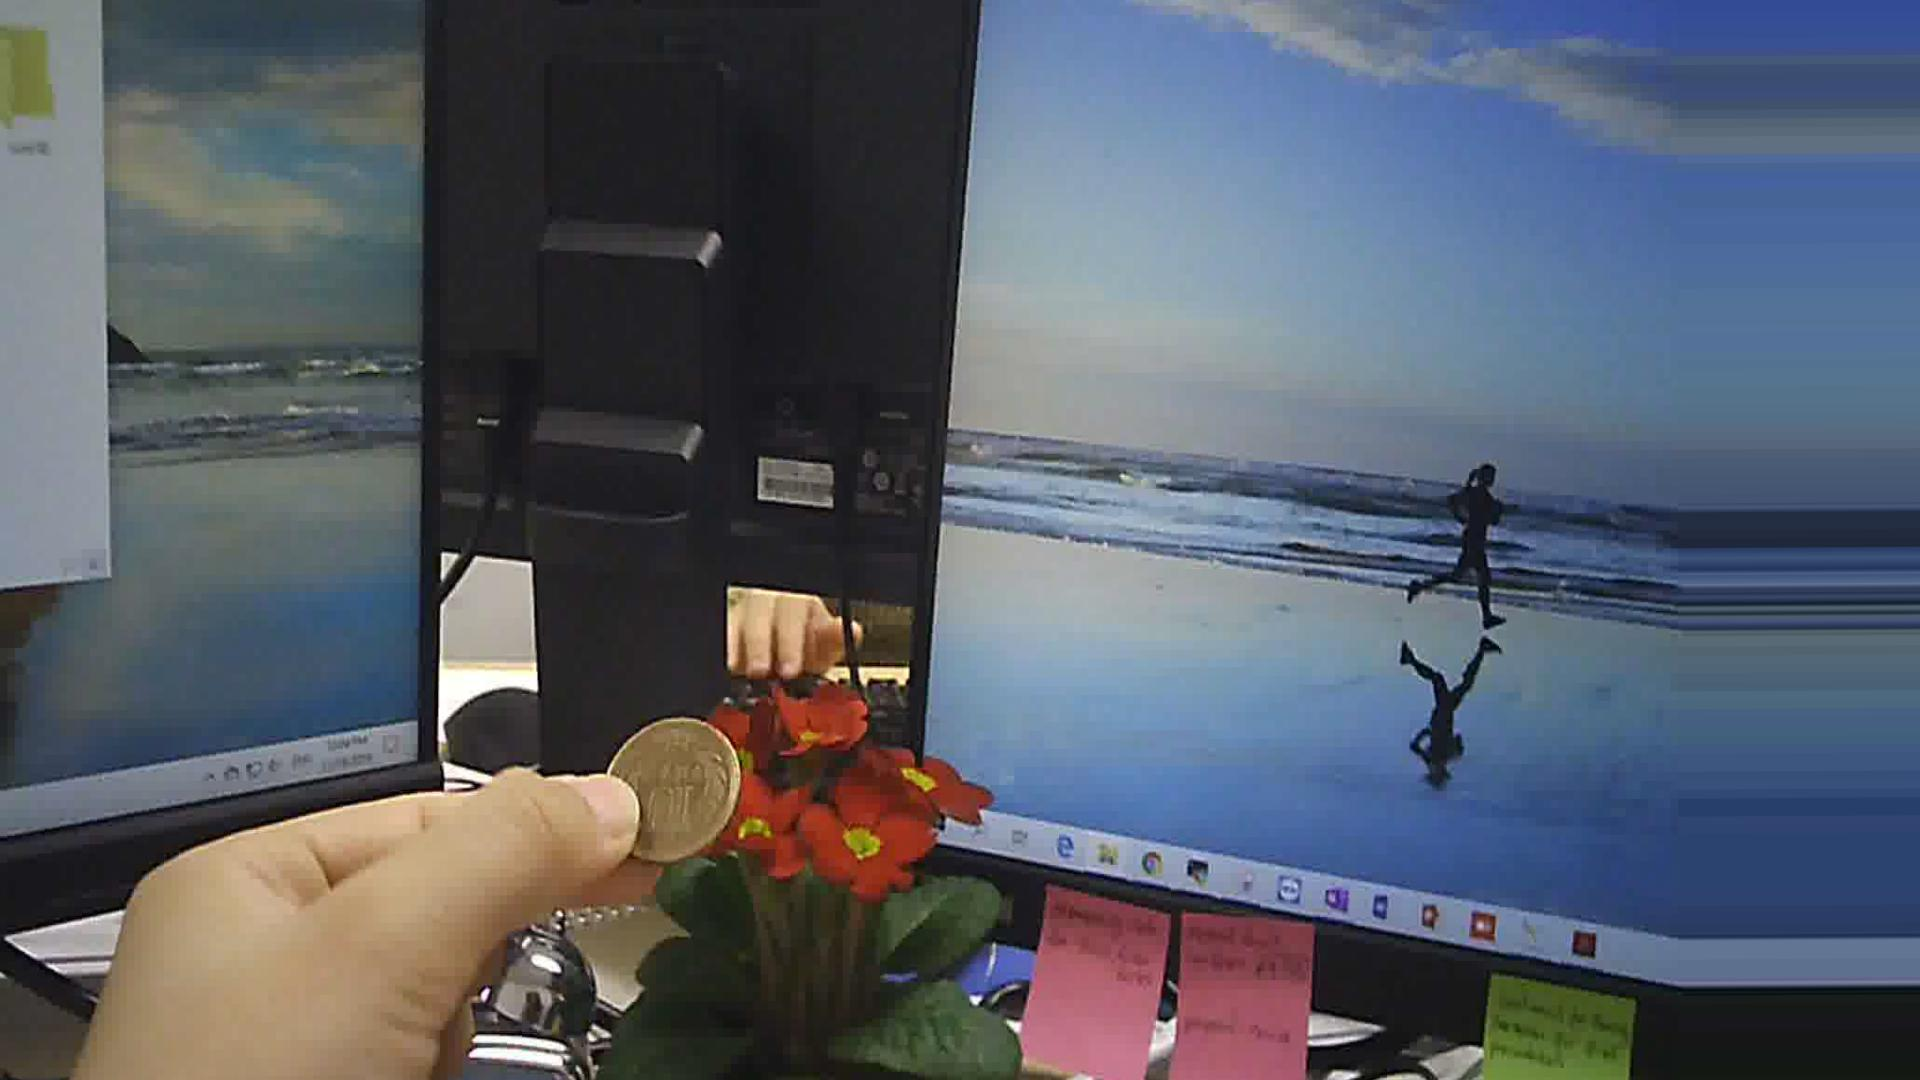10 Yen: (600, 712, 752, 874)
